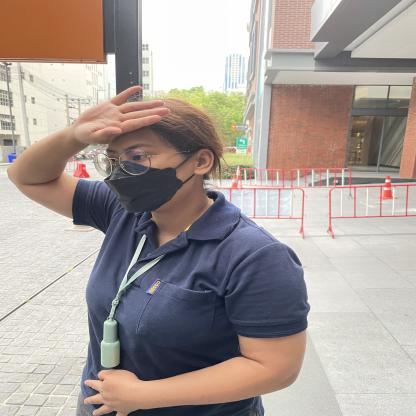Sick: (42, 69, 194, 158)
